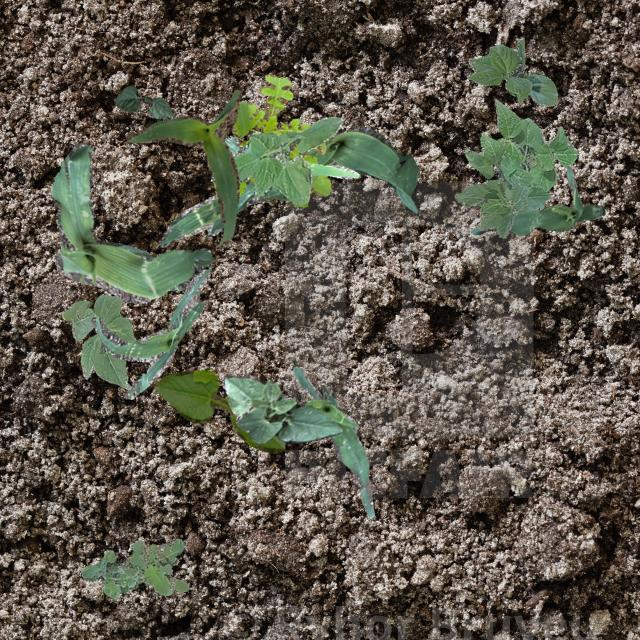crop: (158, 125, 418, 246), (50, 142, 212, 302), (124, 88, 240, 245), (91, 266, 209, 398), (464, 98, 576, 210), (292, 366, 374, 516), (210, 116, 342, 205), (154, 368, 284, 452), (471, 166, 604, 234), (224, 373, 340, 442), (61, 294, 136, 388), (466, 38, 556, 106), (222, 134, 358, 178), (454, 178, 550, 236), (112, 84, 174, 118)
weed: (230, 74, 330, 206), (80, 538, 188, 598)
